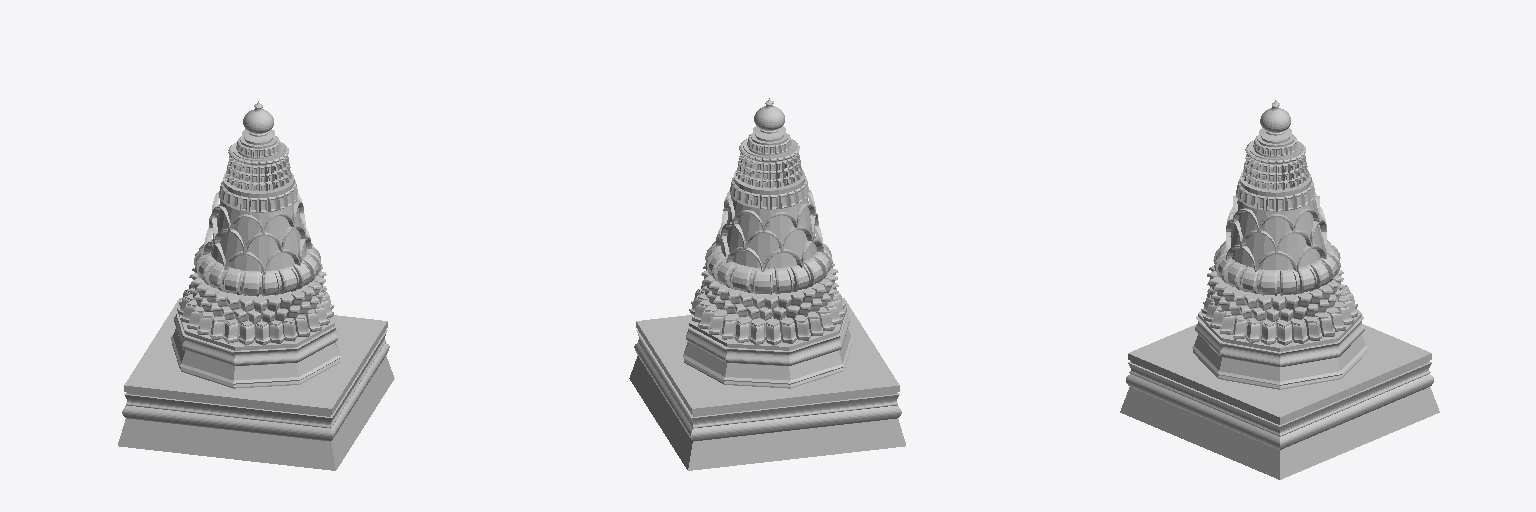
Rendered from Temple Indian N201218.obj.
3 views of the same model, side by side, from view 1: azimuth 30°, elevation 25°; view 2: azimuth 150°, elevation 25°; view 3: azimuth 270°, elevation 25° (orthographic).
Visible parts, largest first — view 1: Line002, Line001, Cone001, Circle001, Cone002, Object001, Line046, Line016, Line015, Line003, Line014; view 2: Line002, Line001, Cone001, Circle001, Cone002, Object001, Line046, Line012, Line011, Line010, Line013; view 3: Line002, Line001, Cone001, Circle001, Cone002, Object001, Line046, Line008, Line007, Line006, Line009.
Boxes of the visible parts, x1,y1,x2,y2 form: Line002: [118, 298, 394, 470]; Line001: [171, 303, 340, 388]; Cone001: [211, 181, 306, 271]; Circle001: [194, 239, 321, 296]; Cone002: [223, 136, 294, 197]; Object001: [203, 192, 311, 274]; Line046: [240, 101, 276, 148]; Line016: [239, 319, 269, 345]; Line015: [210, 316, 240, 343]; Line003: [282, 315, 309, 341]; Line014: [187, 306, 213, 334]; Line002: [629, 298, 905, 470]; Line001: [683, 302, 852, 388]; Cone001: [721, 176, 816, 268]; Circle001: [705, 238, 832, 294]; Cone002: [734, 134, 804, 194]; Object001: [716, 190, 823, 271]; Line046: [751, 98, 787, 145]; Line012: [765, 316, 796, 345]; Line011: [734, 316, 765, 344]; Line010: [708, 310, 739, 339]; Line013: [793, 312, 823, 340]; Line002: [1120, 324, 1439, 479]; Line001: [1192, 309, 1367, 389]; Cone001: [1230, 179, 1321, 269]; Circle001: [1213, 240, 1340, 295]; Cone002: [1240, 135, 1311, 196]; Object001: [1226, 192, 1326, 271]; Line046: [1257, 100, 1293, 146]; Line008: [1290, 315, 1321, 343]; Line007: [1261, 318, 1291, 345]; Line006: [1232, 315, 1262, 342]; Line009: [1315, 307, 1345, 336].
Size of the model in its own units: 1017 by 1096 by 1017.